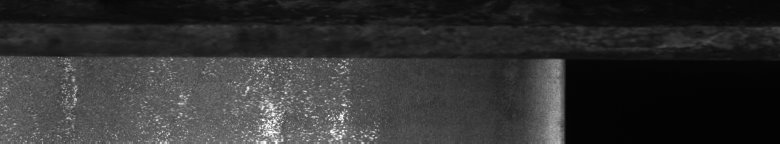kb: (4, 26, 429, 136)
